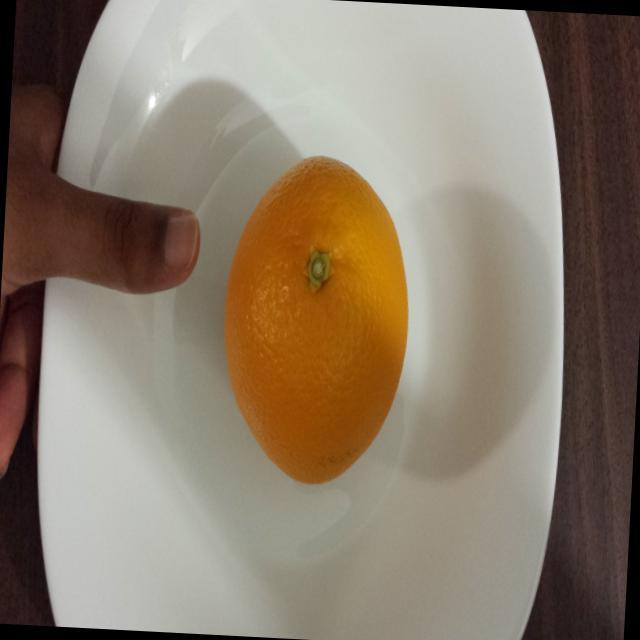Orange: (206, 108, 462, 504)
